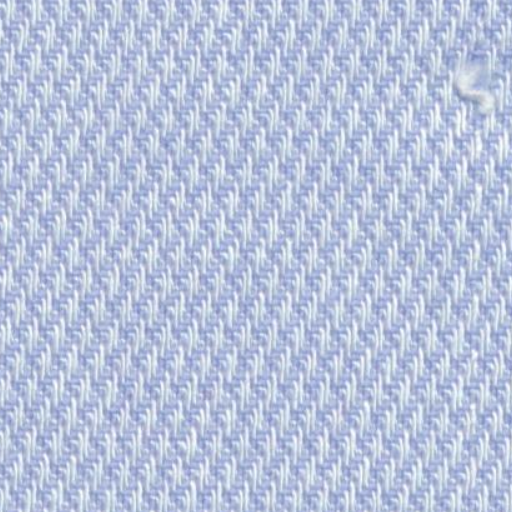DuanSha: (440, 39, 500, 142)
